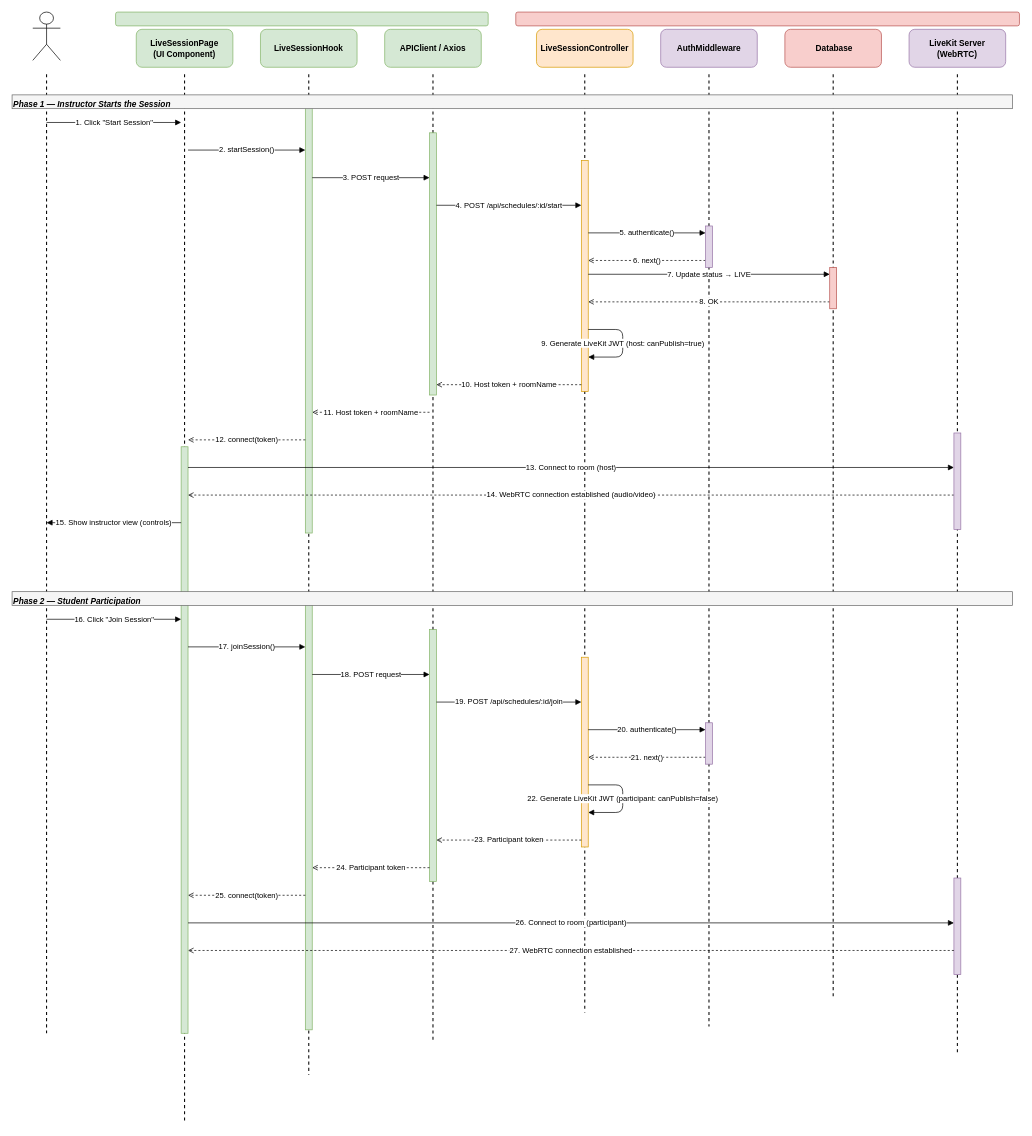
Image size: 1032x1136. Some labels were removed from this diagram. The shapes that lost their labels are listed below. From the top down, each one's centre as x and y in pixels, then its label:
At (46,35): "Instructor / Student".
At (301,18): "Frontend".
At (767,18): "Backend + DB + AI / WebRTC Services".
